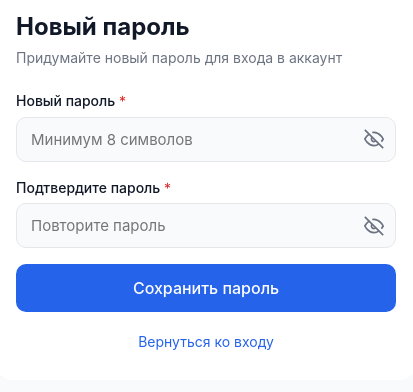
Scenario: ResetPassword.vue › валидирует совпадение паролей
Type "Password123!" into the password field with placeholder "Минимум 8 символов" at (206, 139), box [16,117,396,162]
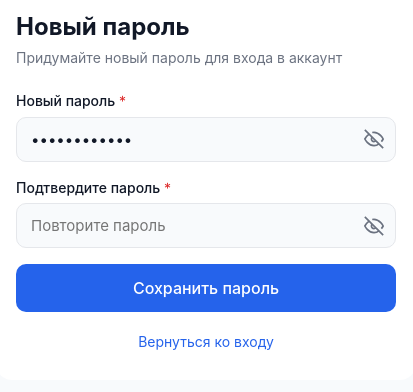
Type "Different123!" into the password field with placeholder "Повторите пароль" at (206, 226), box [16,203,396,248]
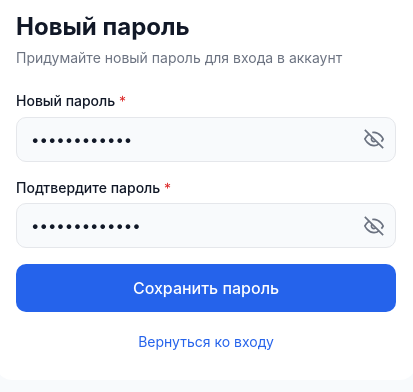
Submit the form, box [16,91,396,312]
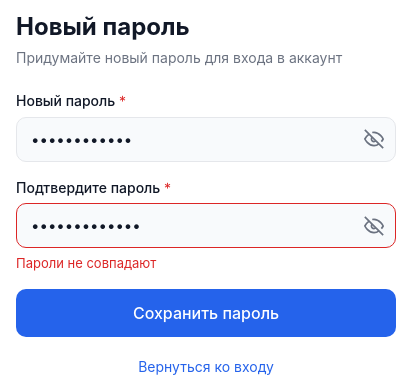
expect the text "не совпадают" is shown: met, box [16,255,156,271]
